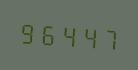four: (58, 19, 77, 50), (78, 20, 97, 51)
nine: (18, 16, 37, 47)
seven: (98, 22, 117, 53)
six: (38, 17, 57, 49)
